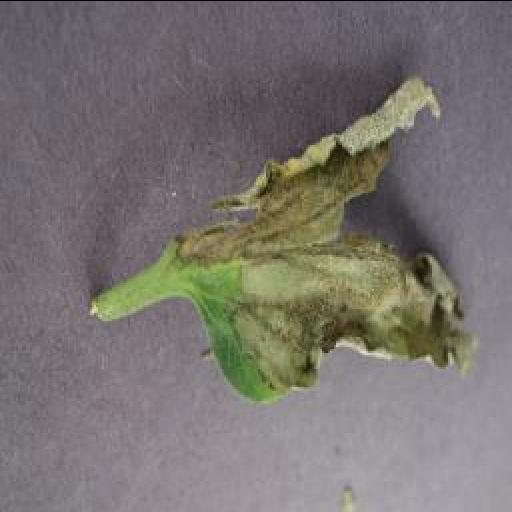disease_tomato: (162, 70, 484, 404)
